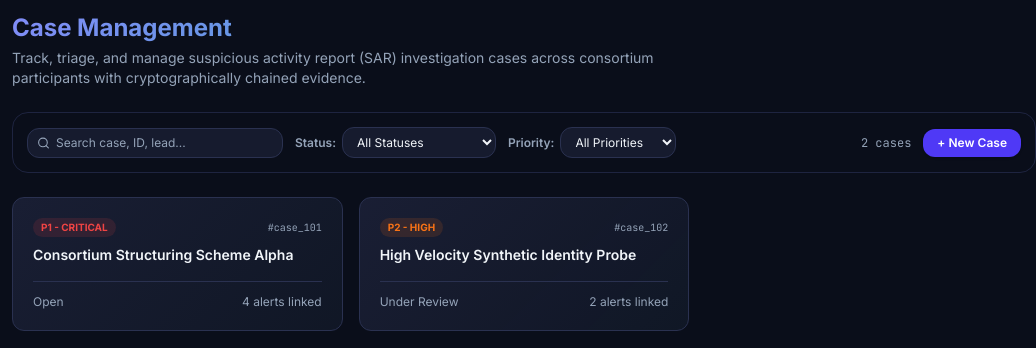
Test: CasesPage Integration Test Suite › filters cases in real-time via text search input and allows clearing search
This screenshot has width=1036, height=348.
Type "Structuring" into the field with placeholder "Search case, ID, lead..." at (155, 142), box 27,128 -> 283,158
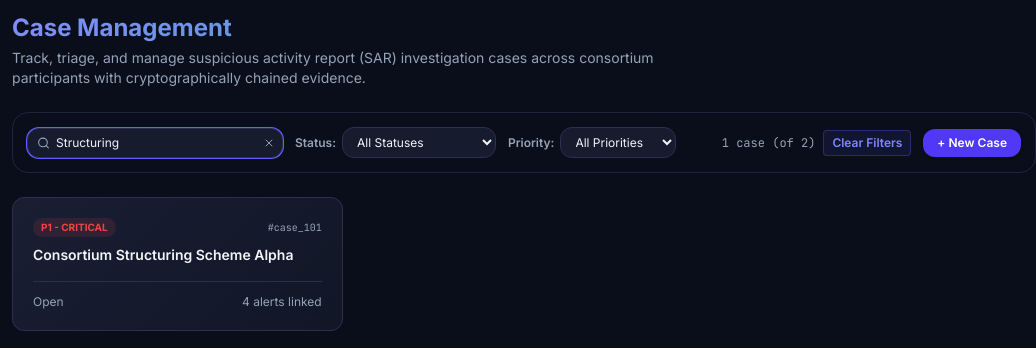
Expected: the heading "Consortium Structuring Scheme Alpha" is shown, 33,245 -> 322,265
Expected: the heading "High Velocity Synthetic Identity Probe" is gone
Expected: the text "1 case (of 2)" is shown, 722,134 -> 815,150
# Clear search with the X button
Click the button named "Clear search" at (269, 142), box 263,136 -> 275,148
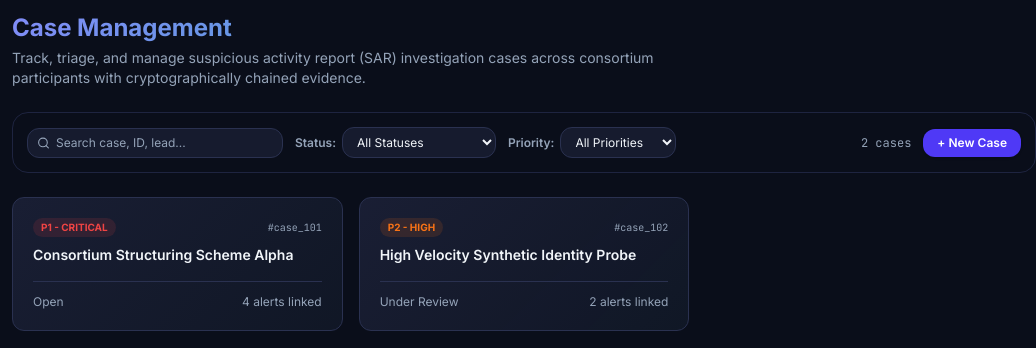
Expected: the heading "Consortium Structuring Scheme Alpha" is shown, 33,245 -> 322,265
Expected: the heading "High Velocity Synthetic Identity Probe" is shown, 380,245 -> 668,265
Expected: the text "2 cases" is shown, 861,134 -> 911,150
